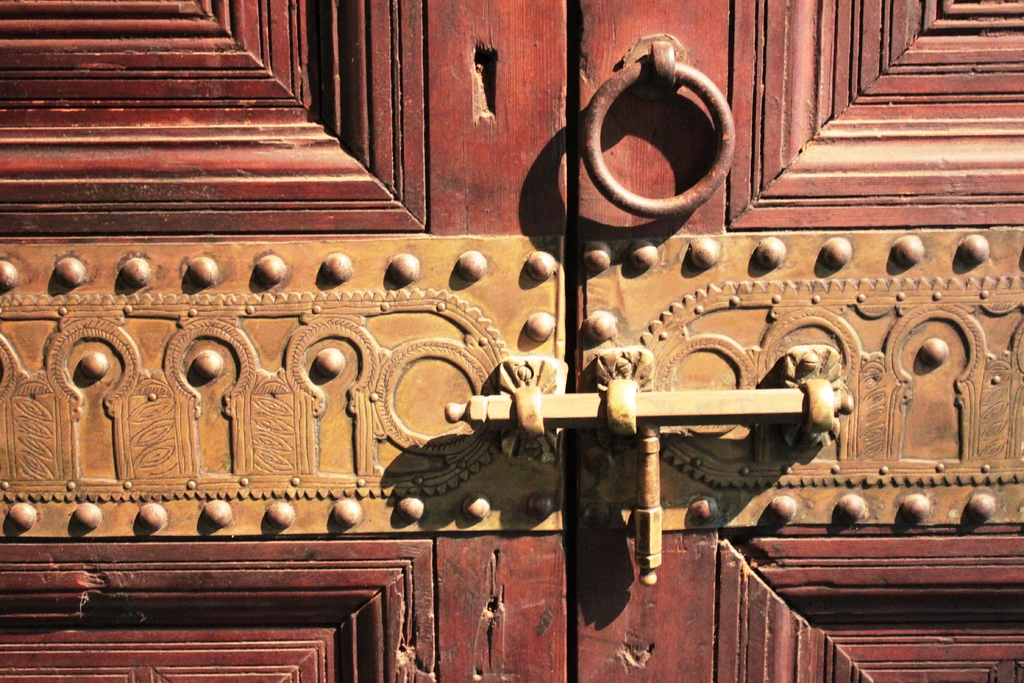door: (6, 5, 550, 673), (583, 4, 1024, 680)
handle: (562, 51, 744, 236)
